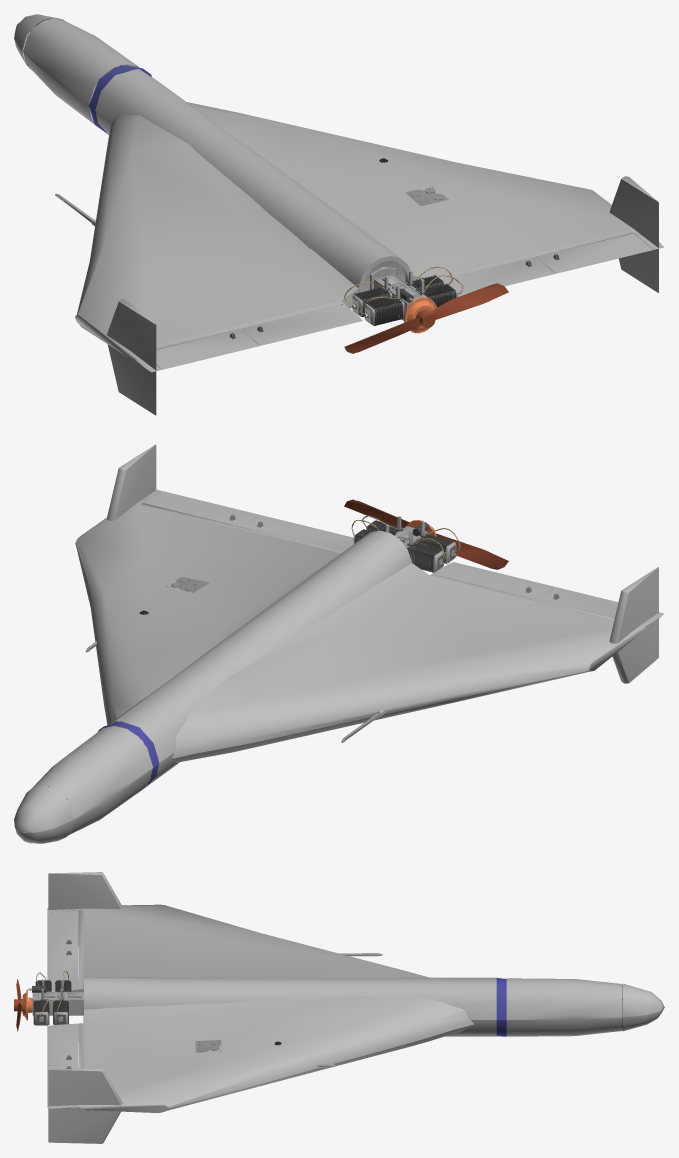
The model's file is drone_swarm.glb.
3 renders of one model, top to bottom at view 1: azimuth 30°, elevation 25°; view 2: azimuth 150°, elevation 25°; view 3: azimuth 270°, elevation 25°, orthographic. The views are drawn at different scales.
Visible parts, largest first — view 1: drone_swarm_mesh; view 2: drone_swarm_mesh; view 3: drone_swarm_mesh.
Part boxes in pixels (box(x1,y1,x2,y2)): drone_swarm_mesh: box(14, 14, 663, 415); drone_swarm_mesh: box(14, 444, 664, 843); drone_swarm_mesh: box(14, 872, 664, 1143).
Bounding box in the file's own units: 2.56 × 0.4418 × 3.5.
